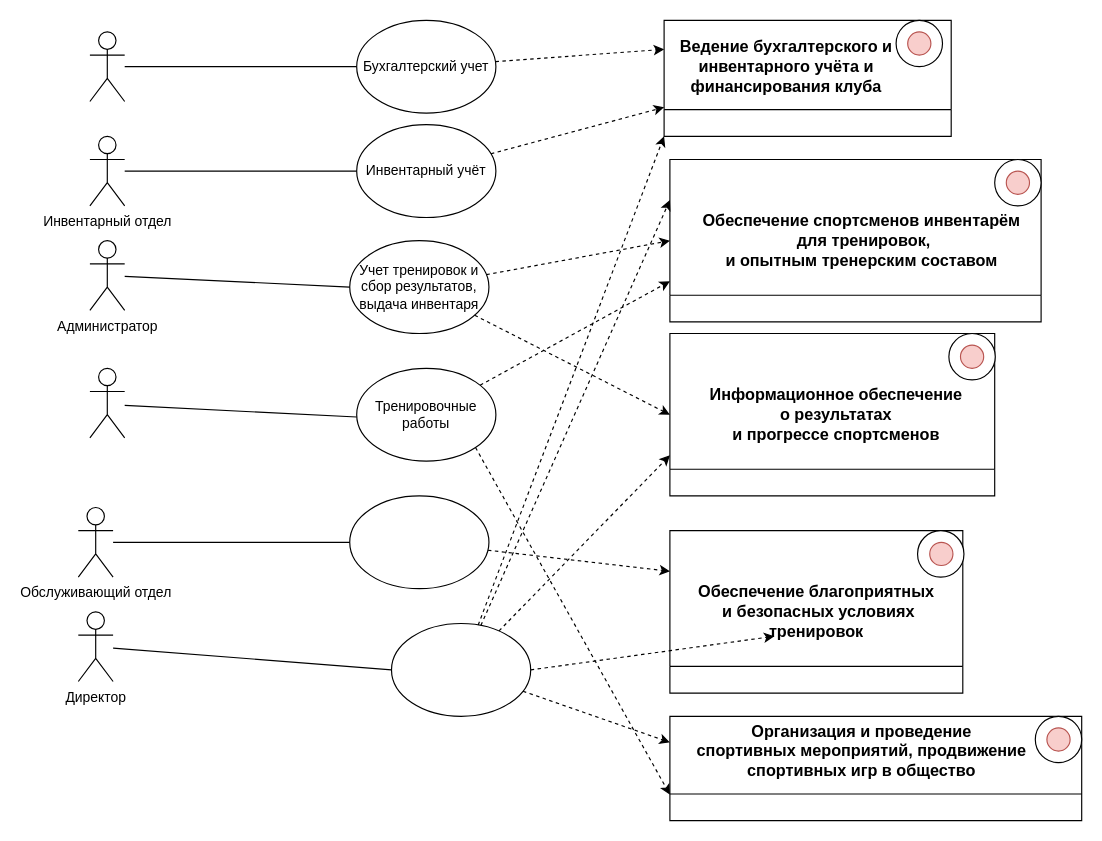
The diagram is 1102 pixels wide and 841 high, and some of its shapes have lost their labels. The shapes that lost their labels are listed below. From the top down, each one's centre as x and y in pixels, then its label:
At (107,66): "Бухгалтер".
At (107,402): "Тренерский состав".
At (419,542): "Санитарные и ремонтые работы".
At (460,669): "Координация работы организации".
